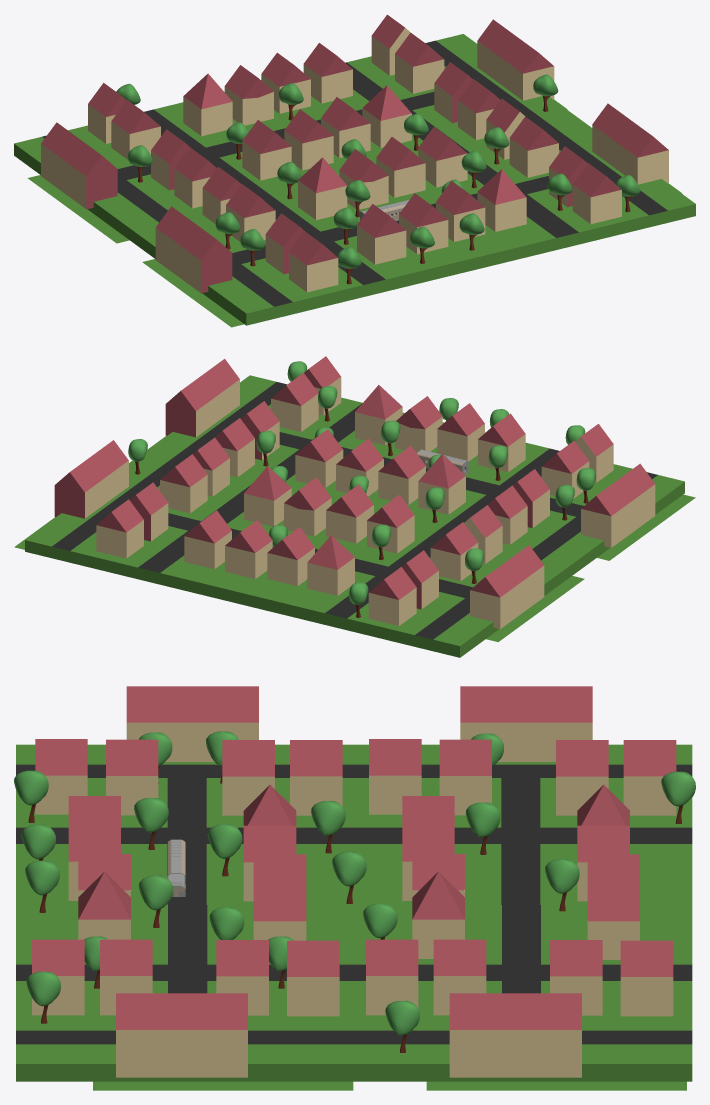
Rendered from FIXEDBlock.fbx.
3 views of the same model, one above another, from view 1: azimuth 30°, elevation 25°; view 2: azimuth 150°, elevation 25°; view 3: azimuth 270°, elevation 25° (orthographic). The views are drawn at different scales.
Parts seen in each view (by area): view 1: Cube.001, Cube.003, Cube, Cube.002, Cube.021, Cube.014, Cube.008, Cube.015, Cube.050, Cube.005, Cube.006, Cube.007 (+6 smaller); view 2: Cube, Cube.002, Cube.001, Cube.003; view 3: Cube.002, Cube.003, Cube, Cube.001, Cube.008, Cube.012, Cube.051, Cube.004, Cube.014, Cube.019, Cube.011, Cube.016 (+10 smaller).
Part boxes in pixels (box(x1,y1,x2,y2)): Cube.001: box(131, 149, 471, 327); Cube.003: box(376, 98, 695, 270); Cube: box(14, 65, 343, 243); Cube.002: box(261, 14, 580, 164); Cube.021: box(547, 173, 572, 210); Cube.014: box(278, 83, 303, 120); Cube.008: box(459, 213, 484, 250); Cube.015: box(533, 74, 558, 111); Cube.050: box(345, 180, 370, 217); Cube.005: box(461, 151, 486, 188); Cube.006: box(484, 127, 509, 164); Cube.007: box(410, 226, 434, 263); Cube: box(241, 484, 584, 657); Cube.002: box(14, 437, 332, 604); Cube.001: box(370, 403, 695, 576); Cube.003: box(129, 356, 443, 503); Cube.002: box(349, 854, 692, 1090); Cube.003: box(16, 854, 358, 1090); Cube: box(349, 686, 692, 904); Cube.001: box(16, 686, 349, 904); Cube.008: box(25, 860, 59, 912); Cube.012: box(332, 851, 366, 903); Cube.051: box(138, 875, 173, 927); Cube.004: box(465, 802, 500, 854); Cube.014: box(545, 859, 579, 911); Cube.019: box(14, 770, 48, 822); Cube.011: box(311, 801, 345, 853); Cube.016: box(26, 971, 60, 1023).
Bounding box in the file's own units: 13539 × 1758 × 11554.
